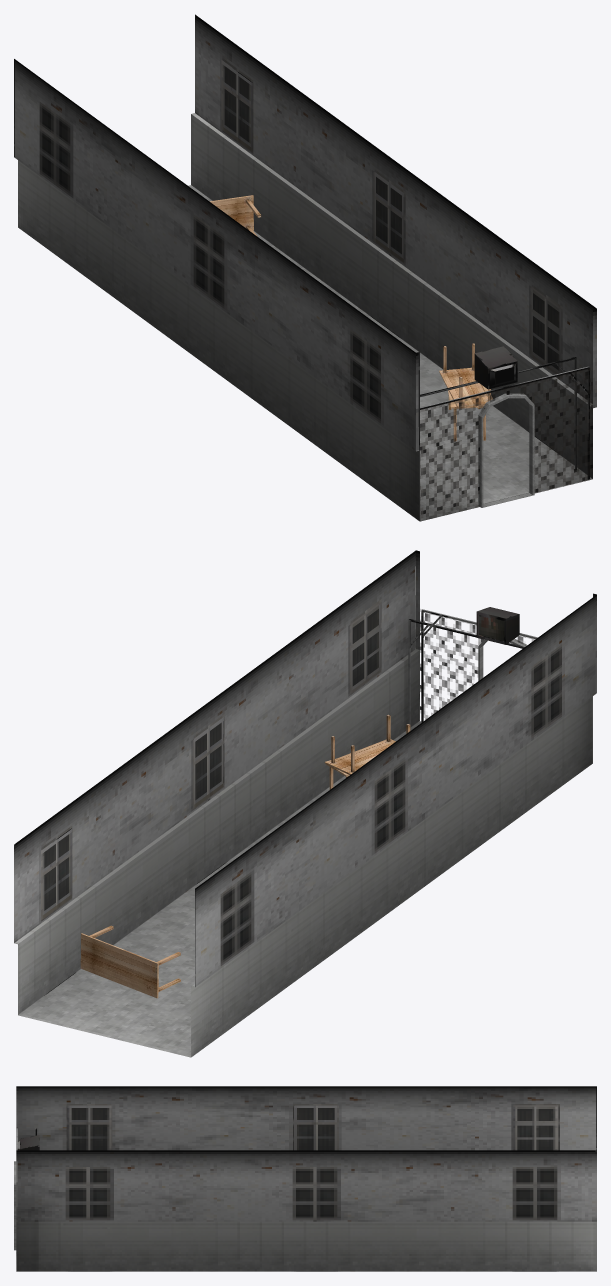
The model's file is corridor-mesh-slide.glb.
3 renders of one model, top to bottom at view 1: azimuth 30°, elevation 25°; view 2: azimuth 150°, elevation 25°; view 3: azimuth 270°, elevation 25°, orthographic. The views are drawn at different scales.
Parts seen in each view (by area): view 1: corridor_base.001, table_mesh.005, table_mesh.002; view 2: corridor_base.001, table_mesh.002, table_mesh.005; view 3: corridor_base.001.
Part boxes in pixels (<box>): corridor_base.001: <box>14,14,596,521</box>; table_mesh.005: <box>439,343,492,407</box>; table_mesh.002: <box>209,195,261,236</box>; corridor_base.001: <box>14,550,596,1057</box>; table_mesh.002: <box>80,925,180,998</box>; table_mesh.005: <box>326,714,410,774</box>; corridor_base.001: <box>14,1086,596,1271</box>.
Bounding box in the file's own units: 5.18 × 4.65 × 20.
2 materials, 2 textured.
